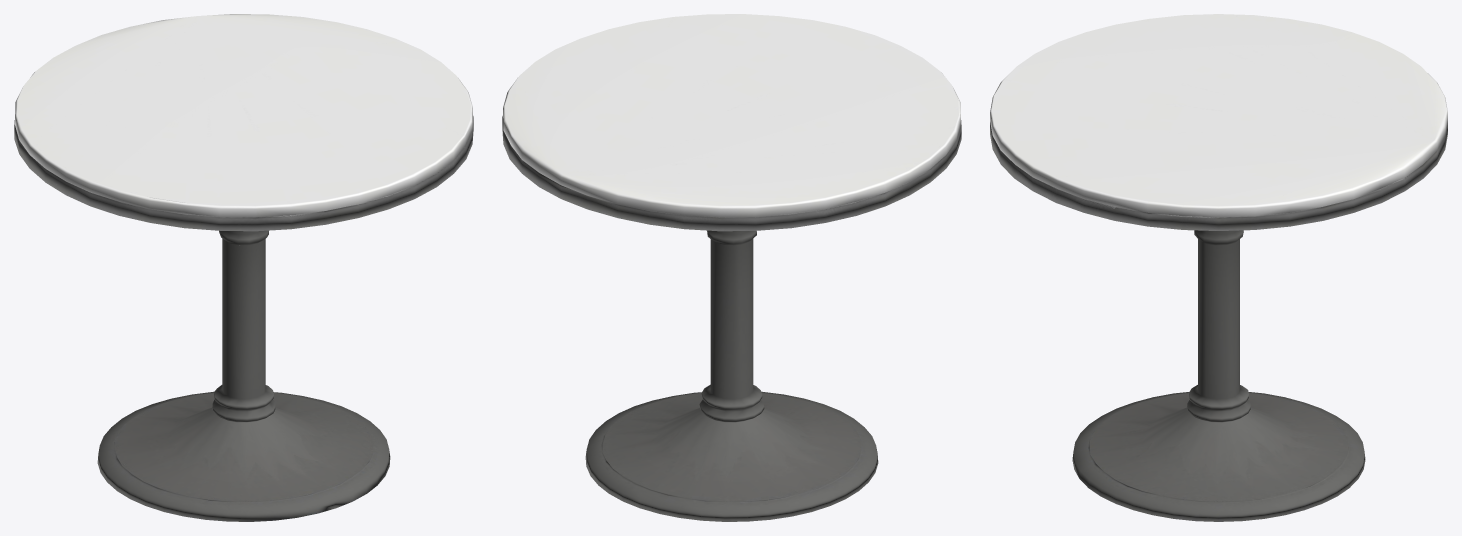
3 views of the same model, side by side, from view 1: azimuth 30°, elevation 25°; view 2: azimuth 150°, elevation 25°; view 3: azimuth 270°, elevation 25° (orthographic).
Parts seen in each view (by area): view 1: tripo_node_e025422b-ff16-47e9-8172-eae74f9a3eb1; view 2: tripo_node_e025422b-ff16-47e9-8172-eae74f9a3eb1; view 3: tripo_node_e025422b-ff16-47e9-8172-eae74f9a3eb1.
Boxes of the visible parts, x1,y1,x2,y2 form: tripo_node_e025422b-ff16-47e9-8172-eae74f9a3eb1: [14, 14, 473, 521]; tripo_node_e025422b-ff16-47e9-8172-eae74f9a3eb1: [502, 14, 961, 521]; tripo_node_e025422b-ff16-47e9-8172-eae74f9a3eb1: [990, 14, 1447, 521].
Size of the model in its own units: 0.998 by 0.8418 by 0.998.
Materials: 1 (1 with a texture image).
